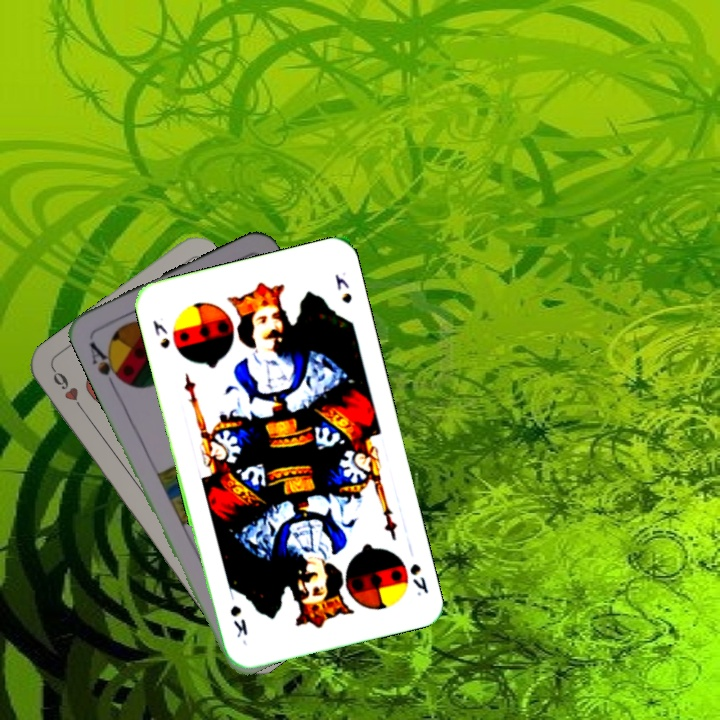H9: (48, 365, 88, 416)
SA: (85, 338, 127, 390)
SK: (406, 559, 431, 598), (148, 316, 173, 351)
